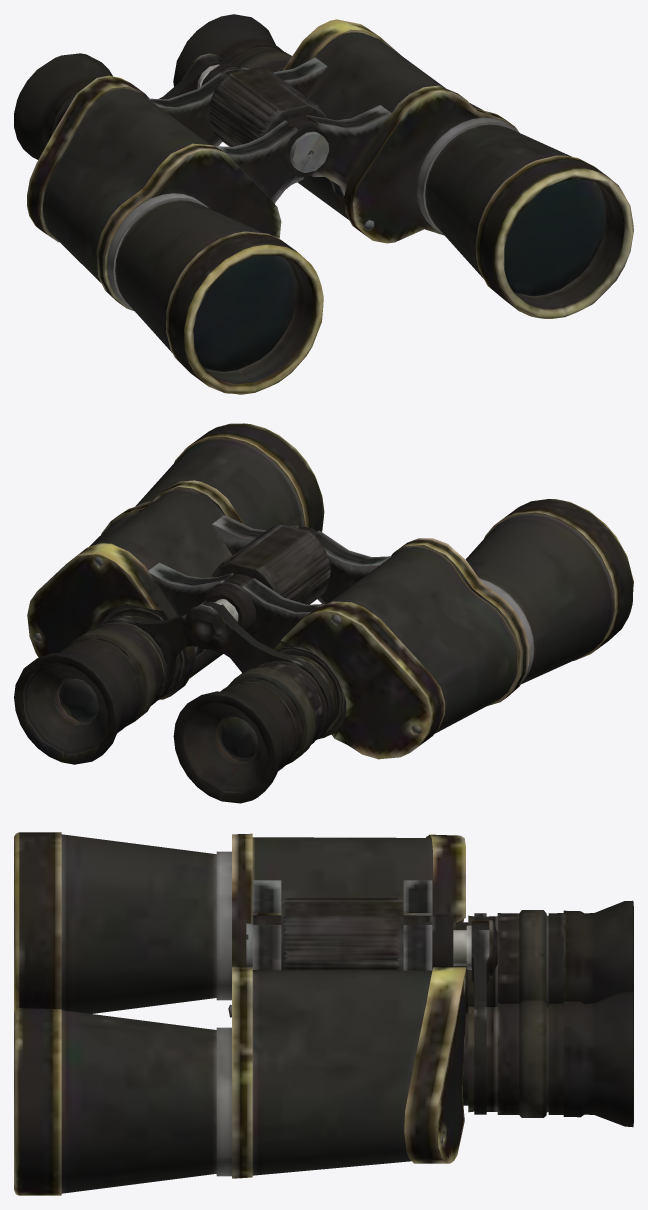
File: vintage_binocular.glb
The picture shows the model from 3 angles, top to bottom: view 1: azimuth 30°, elevation 25°; view 2: azimuth 150°, elevation 25°; view 3: azimuth 270°, elevation 25°; orthographic projection. The views are drawn at different scales.
Visible parts, largest first — view 1: vintage_binocular_left_lens; view 2: vintage_binocular_left_lens; view 3: vintage_binocular_left_lens.
Part boxes in pixels (left/top/right/bottom): vintage_binocular_left_lens: left=14, top=14, right=633, bottom=394; vintage_binocular_left_lens: left=14, top=423, right=633, bottom=803; vintage_binocular_left_lens: left=14, top=832, right=633, bottom=1195.
Bounding box in the file's own units: 0.1939 × 0.0684 × 0.1992.
Materials: 1 (1 with a texture image).
